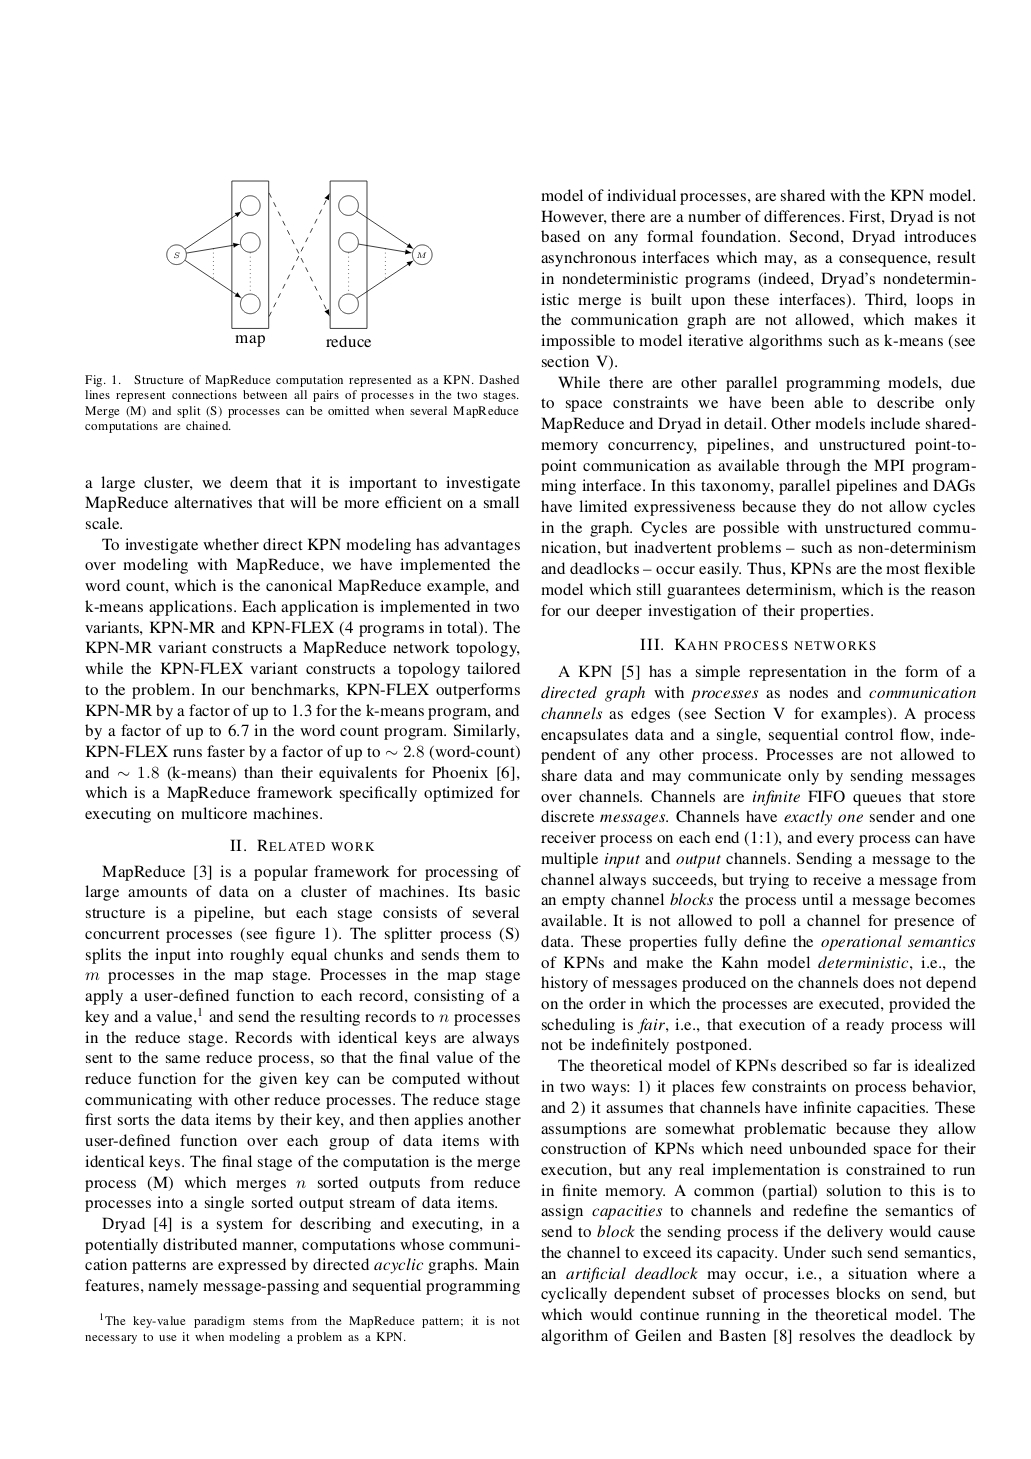figure: (166, 180, 432, 347)
